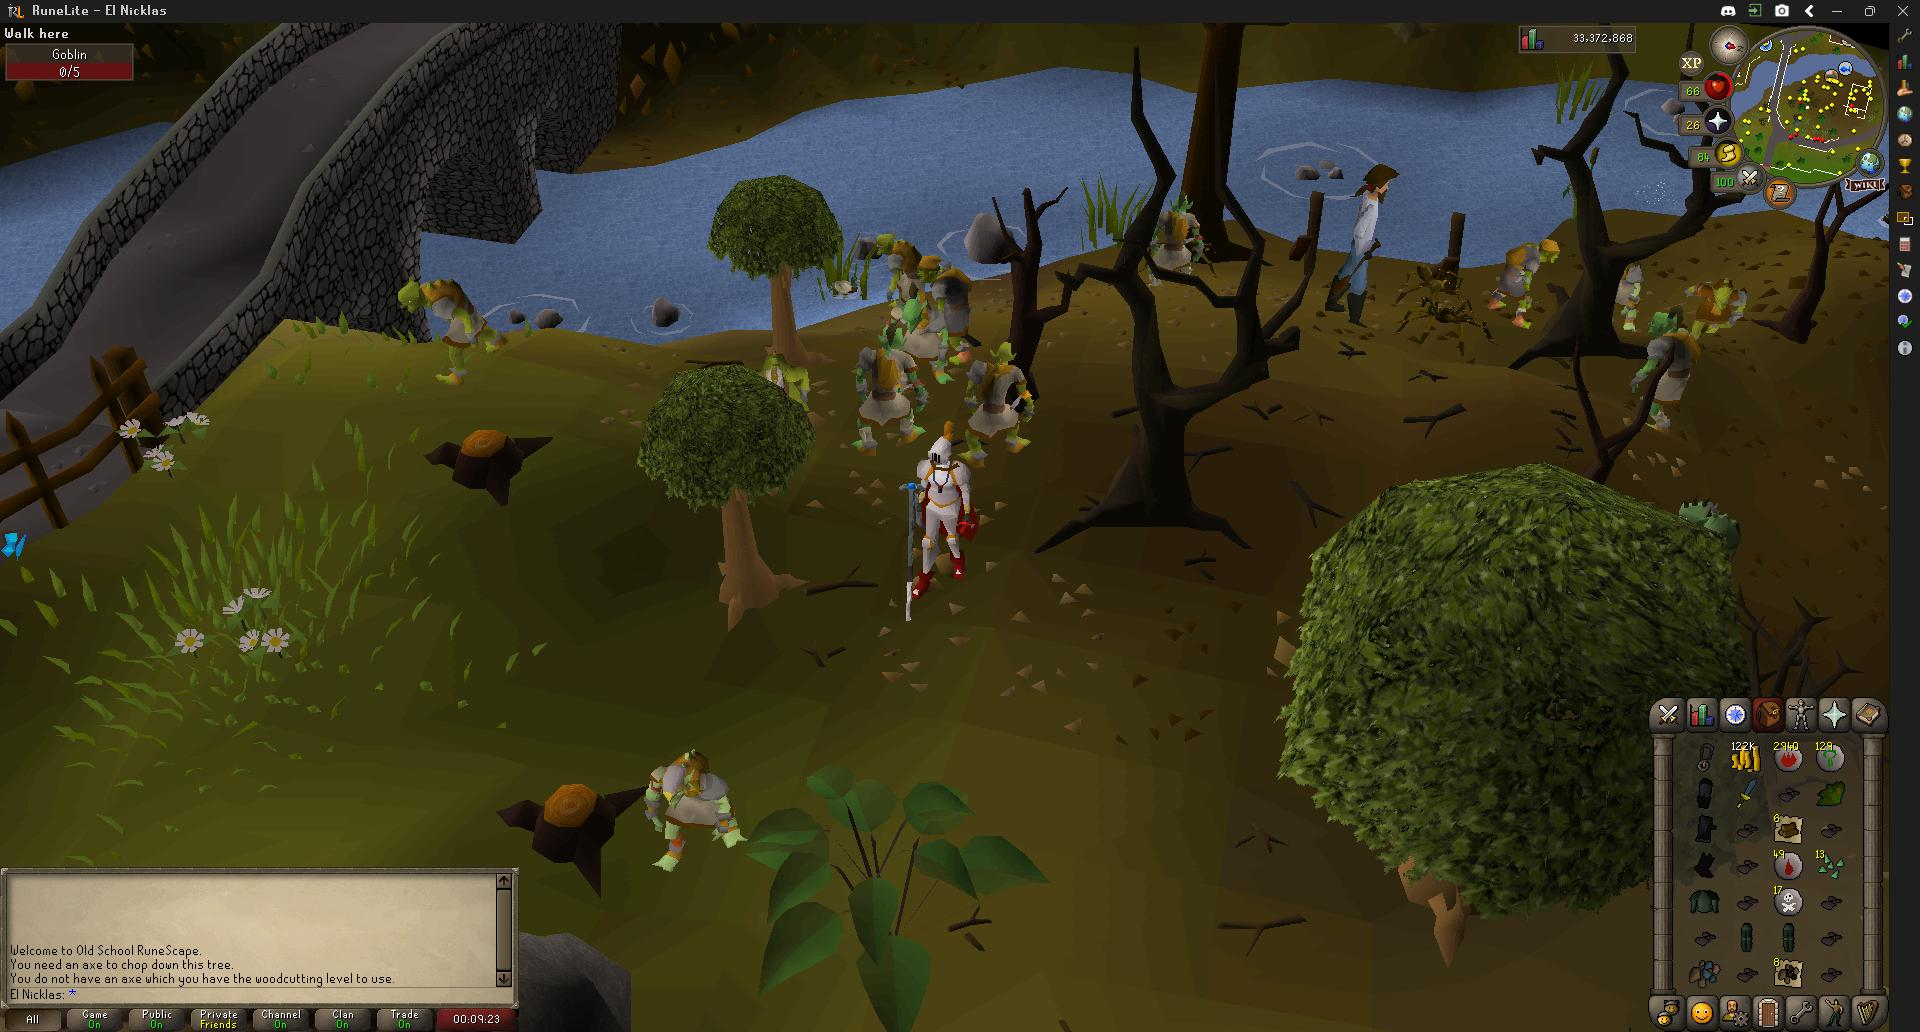goblin: (400, 275, 508, 383), (653, 749, 750, 869), (1625, 308, 1695, 431), (887, 269, 967, 375), (963, 342, 1036, 455), (854, 341, 925, 446), (1491, 236, 1557, 328), (1149, 197, 1206, 283), (1682, 280, 1745, 341), (879, 238, 933, 306), (762, 344, 812, 407), (1615, 261, 1644, 332)
